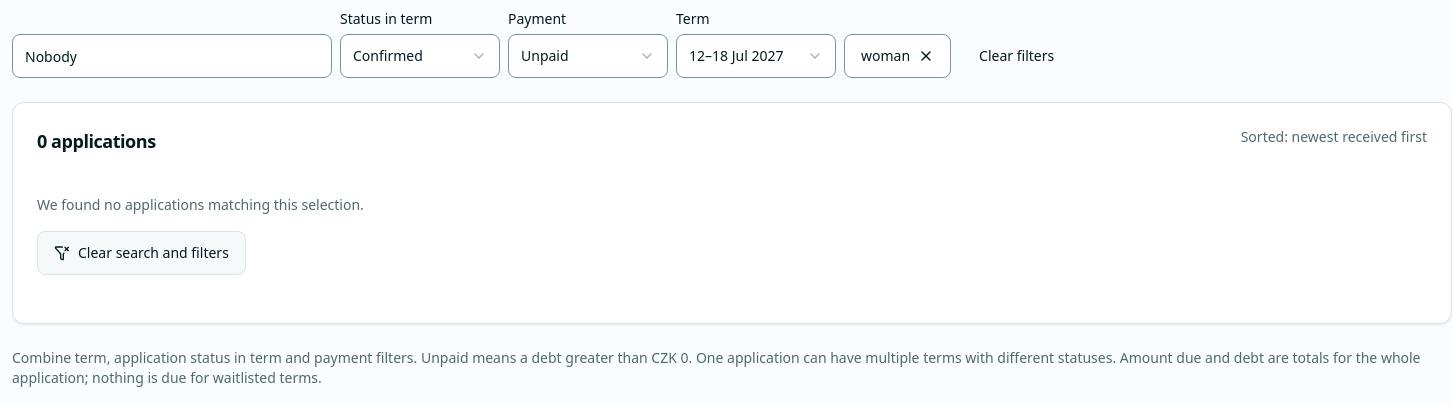
ApplicationsPage › clears search and every filter from an empty result and distinguishes an event with no applications
Expected: the text "We found no applications matching this selection." is shown, x1=37 y1=195 x2=364 y2=215
Click the button "Clear search and filters": (141,253) x1=37 y1=231 x2=246 y2=275
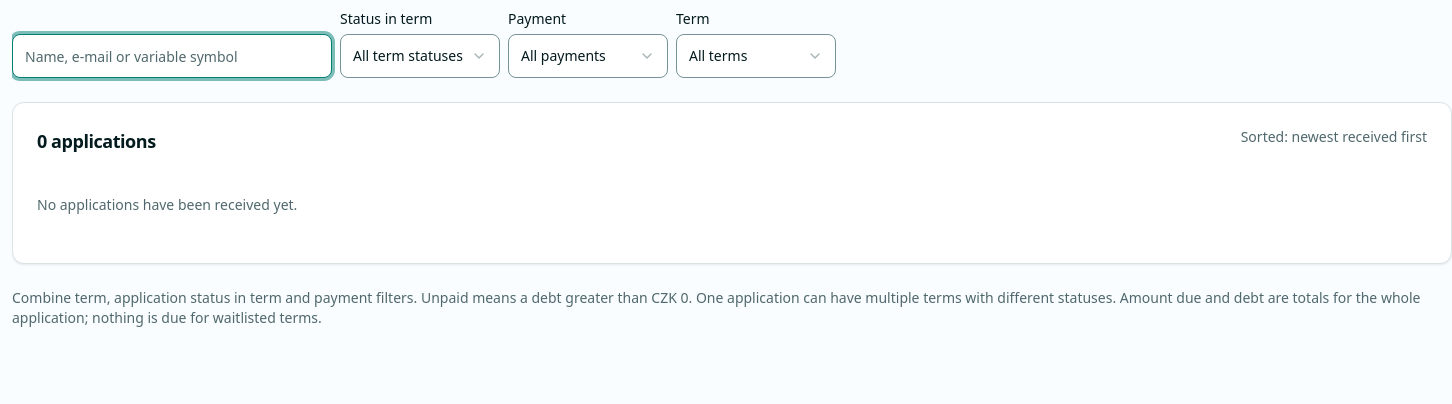
Expected: the search field is empty, x1=12 y1=34 x2=332 y2=78
Expected: the text "No applications have been received yet." is shown, x1=37 y1=195 x2=297 y2=215
Expected: the button "Clear search and filters" is gone
